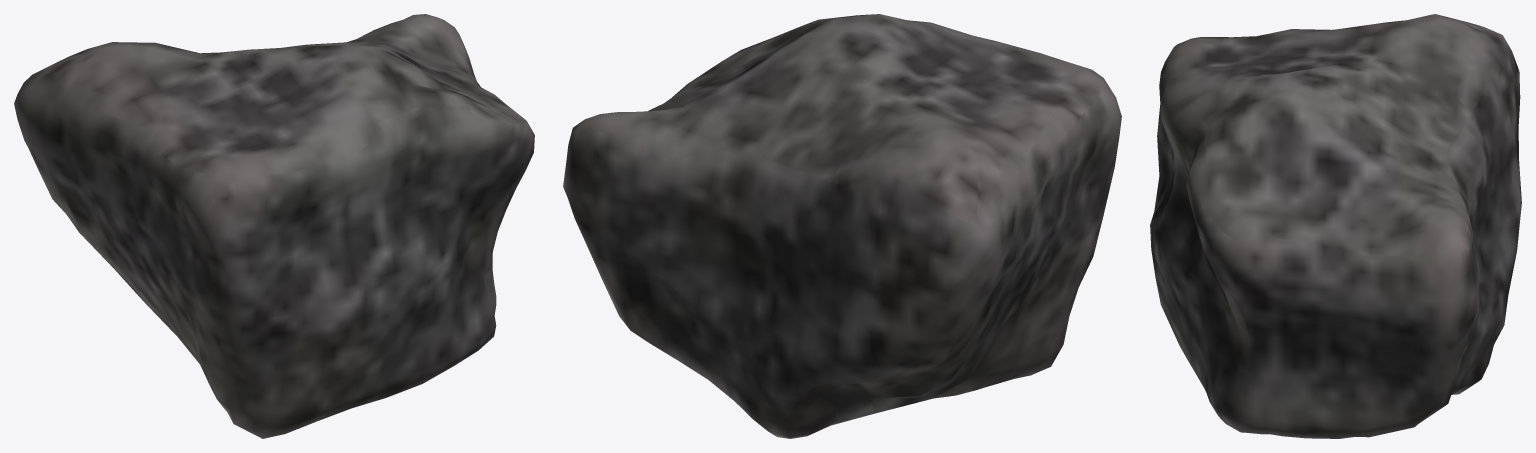
Rendered from asteroid_0.glb.
3 renders of one model, left to right at view 1: azimuth 30°, elevation 25°; view 2: azimuth 150°, elevation 25°; view 3: azimuth 270°, elevation 25°, orthographic. The views are drawn at different scales.
Visible parts, largest first — view 1: asteroid_0; view 2: asteroid_0; view 3: asteroid_0.
Boxes of the visible parts, x1,y1,x2,y2 form: asteroid_0: [14, 14, 534, 438]; asteroid_0: [563, 14, 1121, 438]; asteroid_0: [1150, 14, 1521, 438].
Bounding box in the file's own units: 1.58 × 1.16 × 1.22.
Materials: 1 (1 with a texture image).
